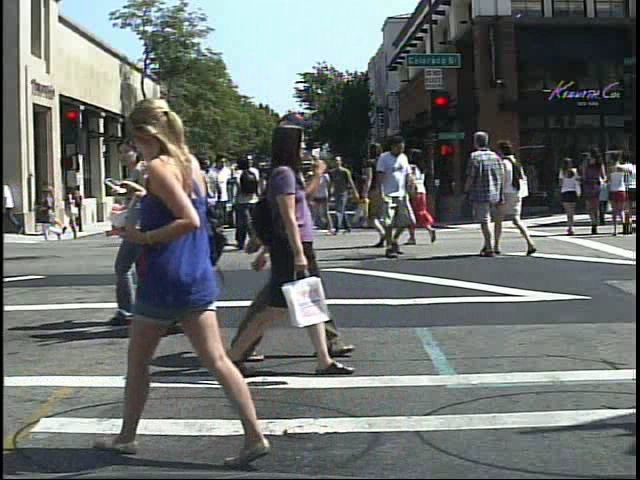person: (108, 81, 287, 475), (234, 121, 353, 374), (128, 134, 219, 343), (279, 105, 348, 366), (110, 130, 163, 332), (375, 133, 423, 260), (464, 127, 507, 265), (361, 134, 403, 252), (270, 146, 315, 252), (230, 150, 272, 261), (192, 144, 231, 259), (499, 133, 534, 257), (230, 149, 268, 254), (202, 152, 239, 252), (408, 143, 440, 246), (554, 152, 585, 237), (175, 171, 196, 240), (67, 182, 87, 232)
